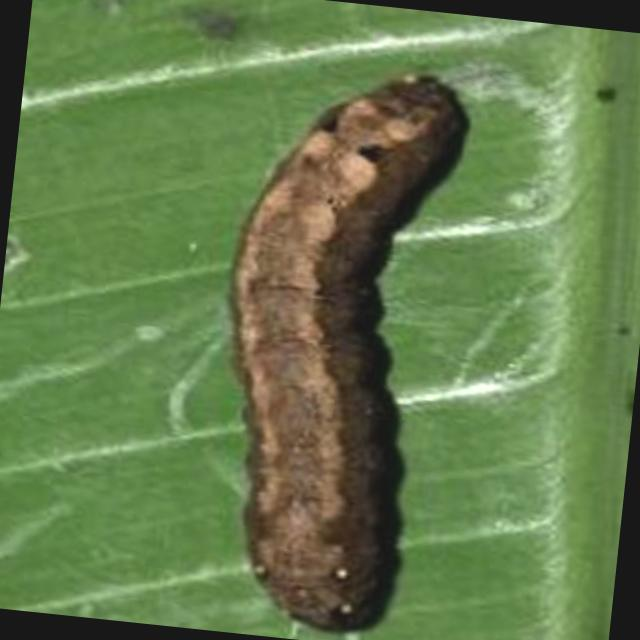Tobacco cutworm: (140, 20, 586, 640)
